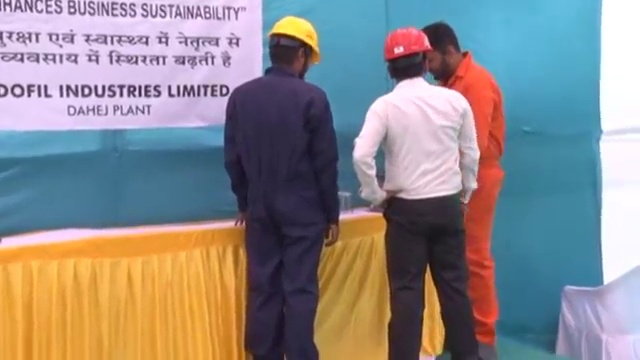helmet: (266, 14, 320, 64), (380, 27, 432, 63)
helmet_off: (428, 23, 469, 81)
helmet_on: (265, 12, 321, 80), (380, 26, 433, 88)
person: (352, 26, 483, 360), (220, 11, 343, 360), (421, 20, 505, 353)
